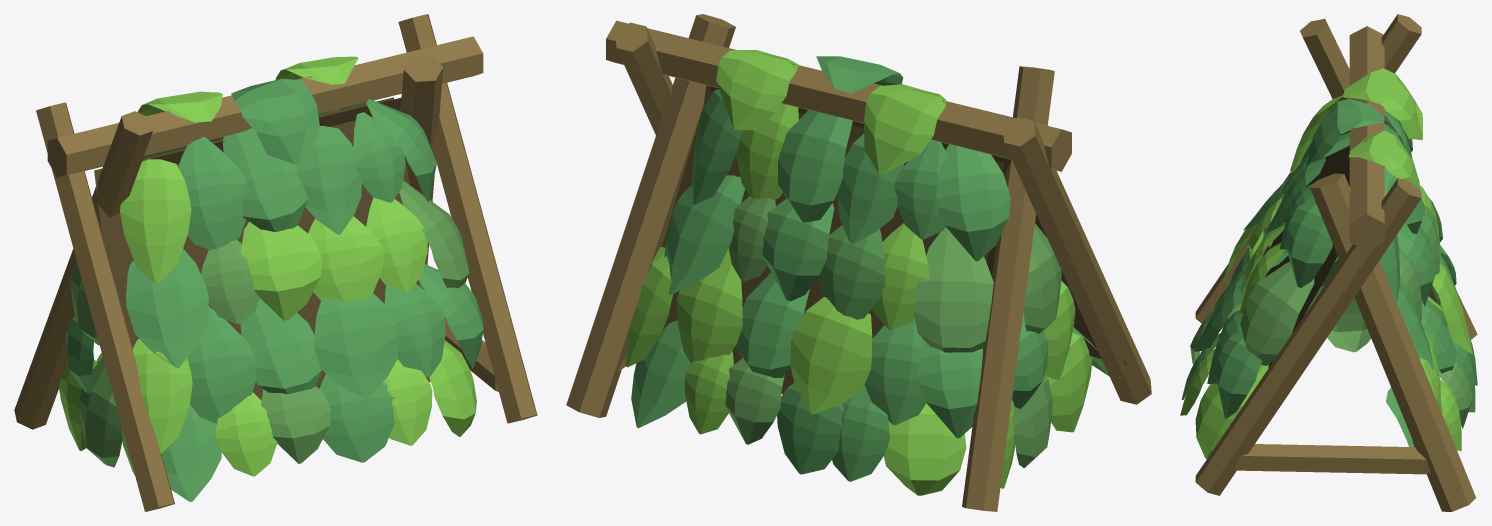
The model's file is tent.glb.
3 renders of one model, left to right at view 1: azimuth 30°, elevation 25°; view 2: azimuth 150°, elevation 25°; view 3: azimuth 270°, elevation 25°, orthographic. The views are drawn at different scales.
Visible parts, largest first — view 1: Cylinder.005, Cylinder.003, Cylinder.002, Cylinder.007, Plane.058, Plane.065, Plane.066, Plane.063, Plane.067, Plane.055, Plane.072, Plane.056 (+27 smaller); view 2: Cylinder.001, Cylinder.007, Cylinder.005, Cylinder.002, Plane.035, Plane.039, Plane.028, Plane.022, Plane.032, Plane.050, Plane.042, Plane.046 (+27 smaller); view 3: Cylinder.001, Cylinder.003, Cylinder.002, Cylinder.006, Plane.062, Plane.068, Plane.050, Cylinder.007, Plane.059, Cylinder.005, Plane.071, Plane.051 (+30 smaller).
Part boxes in pixels (x1,y1,x2,y2): Cylinder.005: (36, 102, 174, 511); Cylinder.003: (398, 14, 537, 423); Cylinder.002: (47, 36, 483, 177); Cylinder.007: (14, 111, 152, 429); Plane.058: (314, 293, 398, 398); Plane.065: (126, 248, 208, 367); Plane.066: (120, 159, 191, 284); Plane.063: (240, 221, 322, 320); Plane.067: (178, 136, 245, 250); Plane.055: (187, 306, 256, 423); Plane.072: (222, 128, 307, 232); Plane.056: (240, 298, 321, 394); Cylinder.001: (566, 14, 735, 417); Cylinder.007: (962, 66, 1054, 511); Cylinder.005: (1003, 117, 1151, 404); Cylinder.002: (606, 20, 1071, 171); Plane.035: (913, 227, 993, 352); Plane.039: (790, 297, 872, 414); Plane.028: (937, 144, 1010, 261); Plane.022: (778, 110, 852, 222); Plane.032: (664, 175, 744, 294); Plane.050: (864, 84, 945, 174); Plane.042: (677, 248, 742, 363); Plane.046: (884, 403, 966, 495); Cylinder.001: (1310, 173, 1476, 511); Cylinder.003: (1195, 178, 1421, 495); Cylinder.002: (1349, 26, 1384, 251); Cylinder.006: (1234, 444, 1430, 474); Plane.062: (1240, 261, 1314, 365); Plane.068: (1285, 197, 1332, 288); Plane.050: (1342, 68, 1422, 140); Cylinder.007: (1300, 18, 1477, 339); Plane.059: (1215, 331, 1262, 418); Cylinder.005: (1195, 14, 1421, 331); Plane.071: (1306, 99, 1384, 167); Plane.051: (1195, 364, 1268, 459).
Size of the model in its own units: 14.4 by 11.96 by 9.6.
